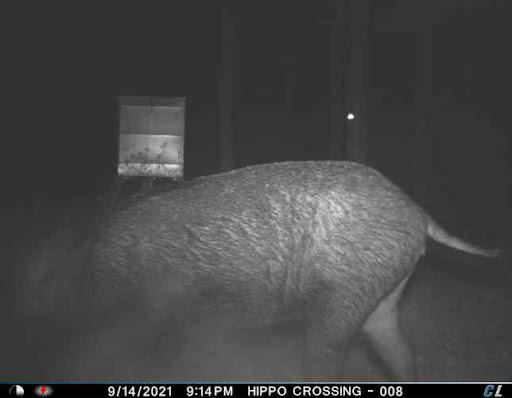Hog: (1, 150, 510, 381)
